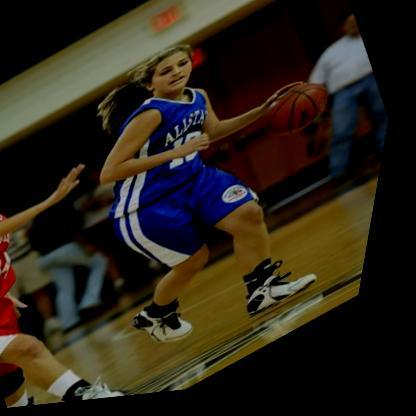basketball: (253, 74, 347, 158)
